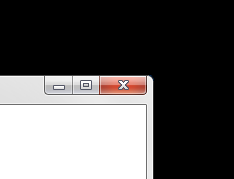close: (99, 74, 146, 94)
